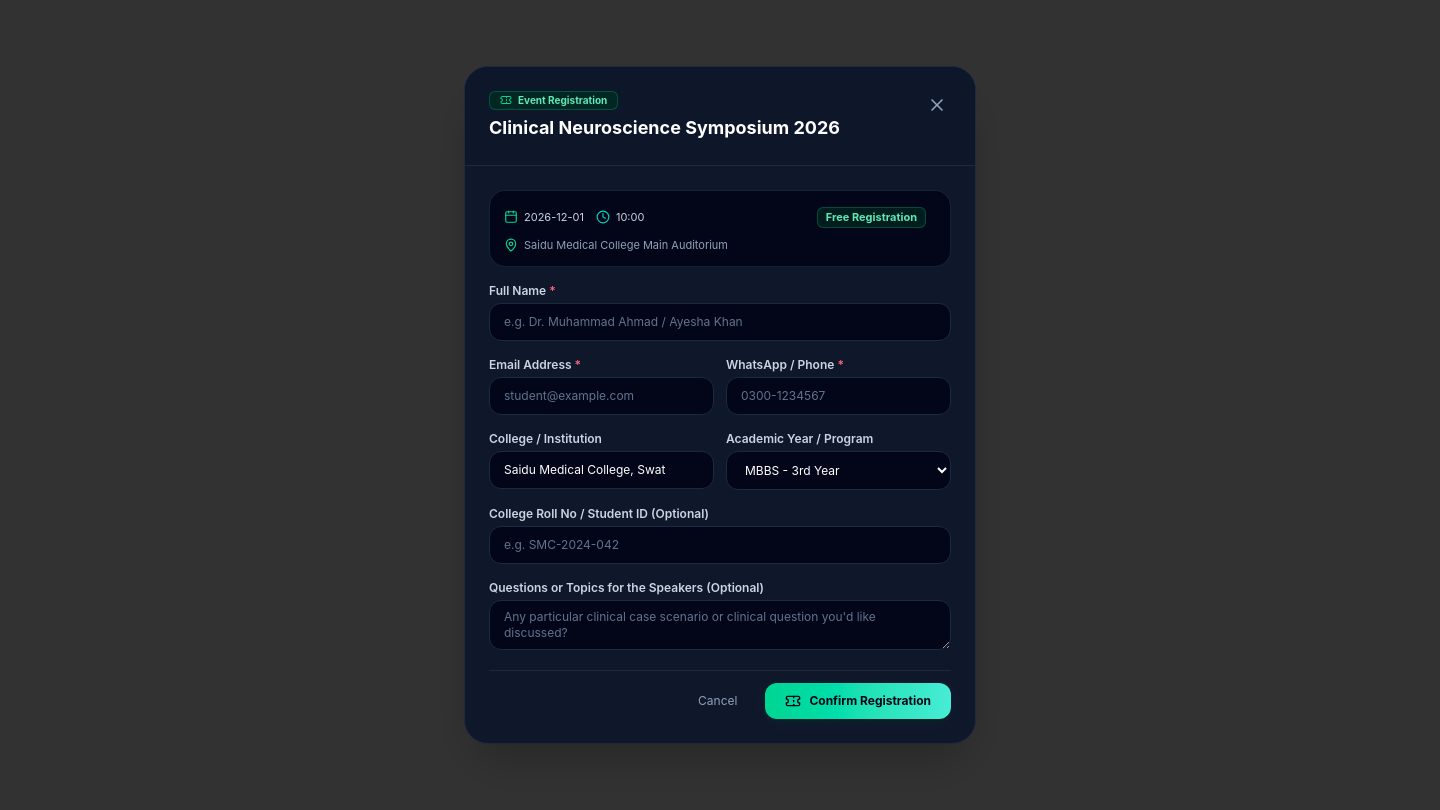
Test case: Event Registration System › prevents duplicate registration for the same event and email
Type "Another Name" into the field with placeholder "e.g. Dr. Muhammad Ahmad / Ayesha Khan" at (720, 322), box [489,303,951,341]
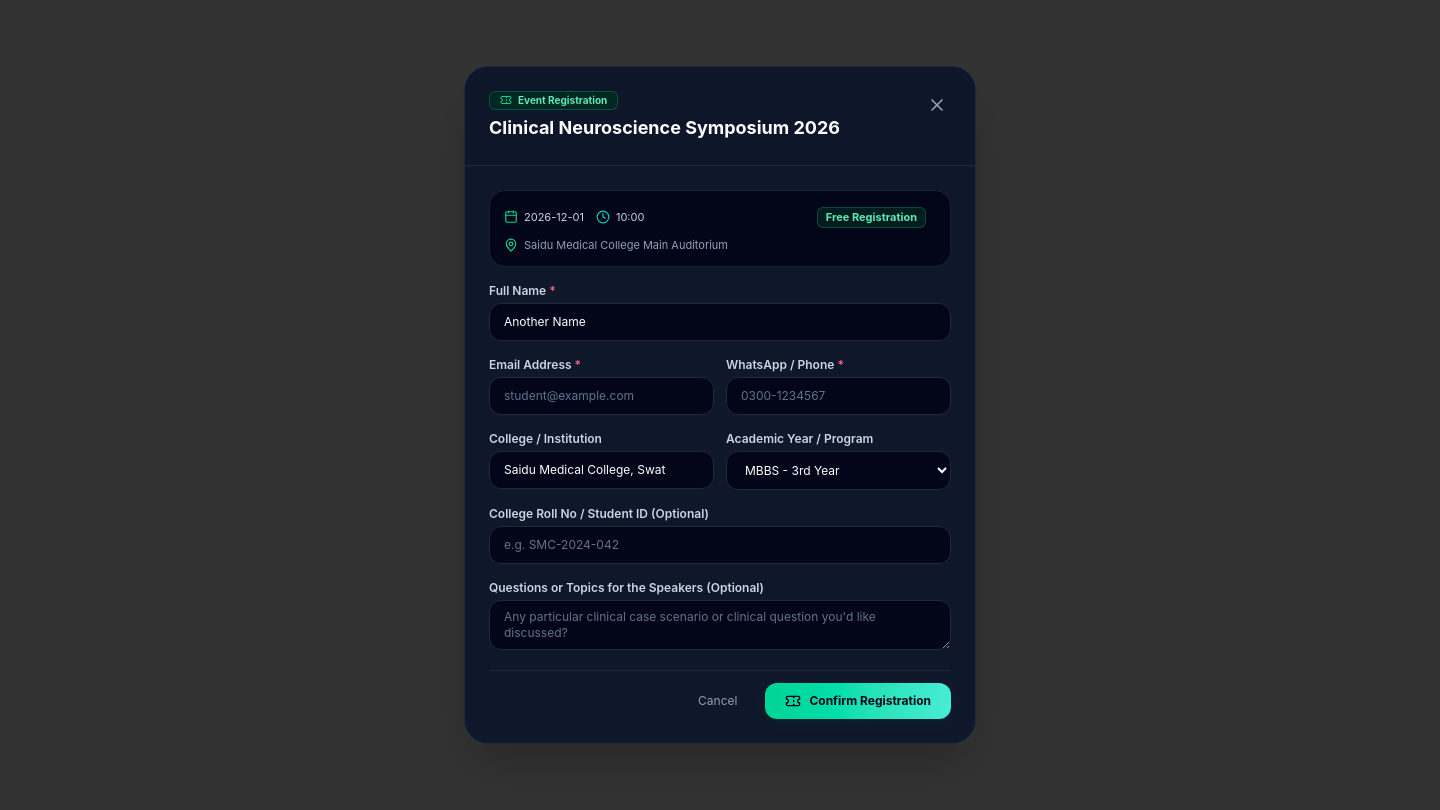
Type "duplicate@smc.edu.pk" into the field with placeholder "student@example.com" at (602, 396), box [489,377,714,415]
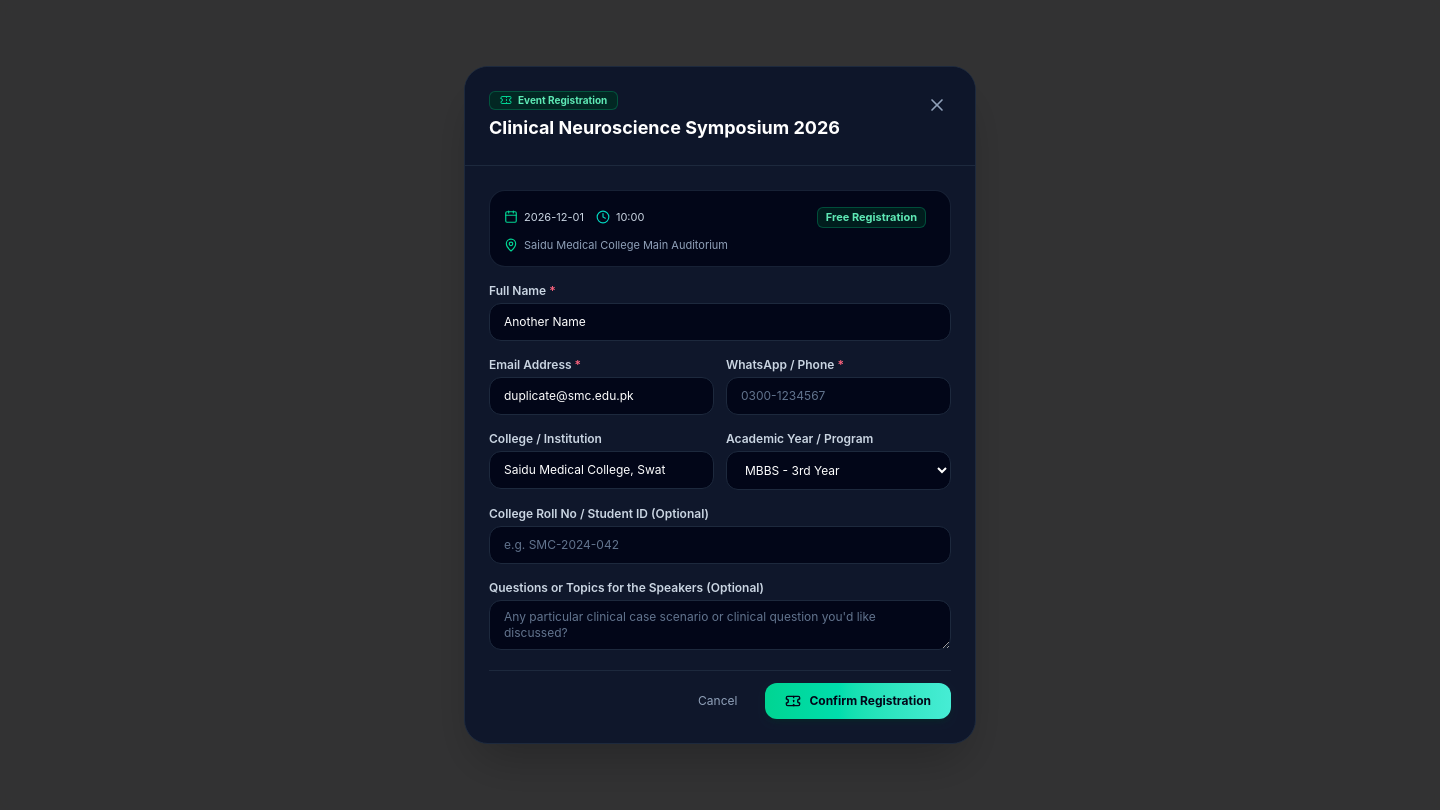
Type "0312-3456789" into the field with placeholder "0300-1234567" at (838, 396), box [726,377,951,415]
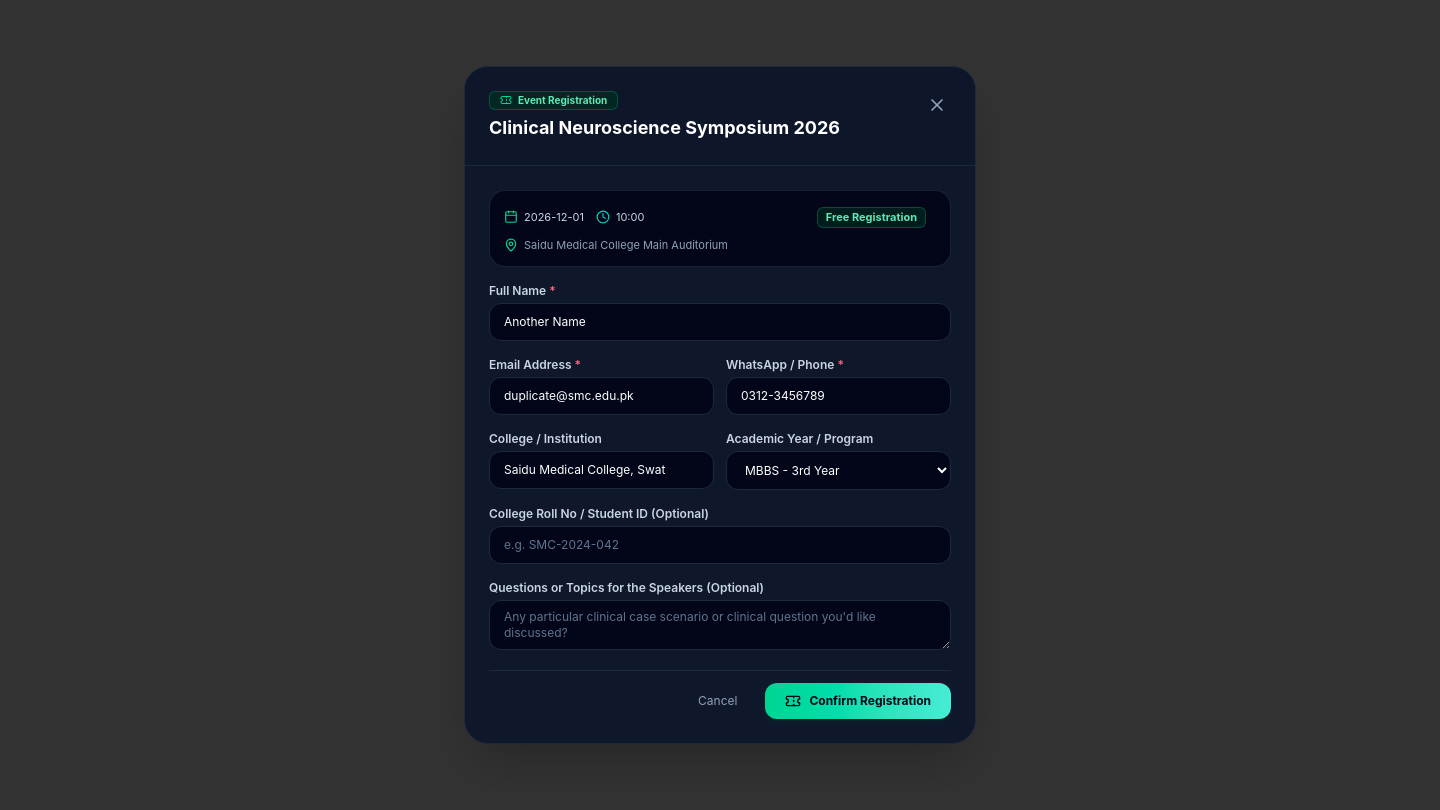
Click the button "Confirm Registration" at (858, 701), box [765,683,951,719]
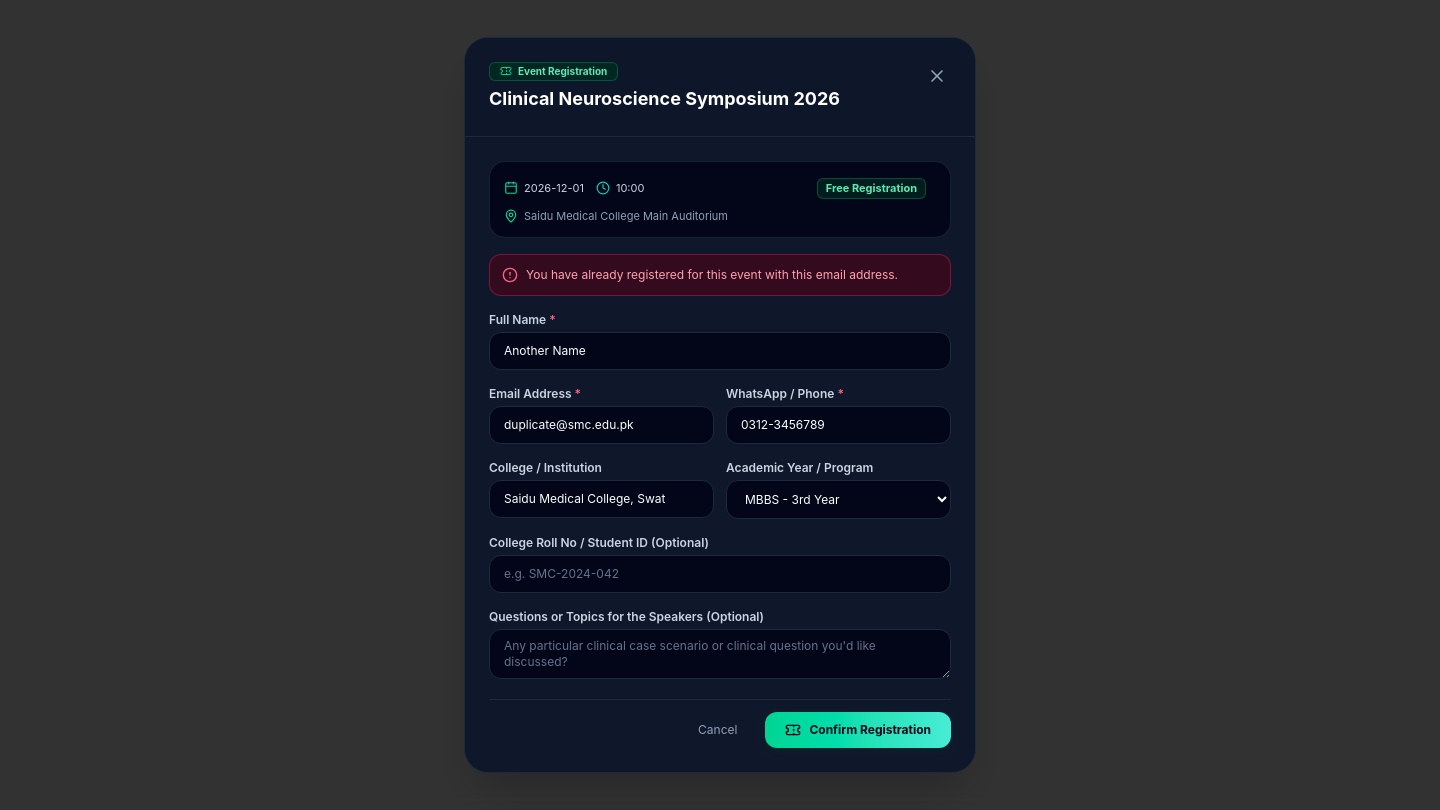
Check: the text "You have already registered for this event with this email address" is shown, box [526,267,898,282]
